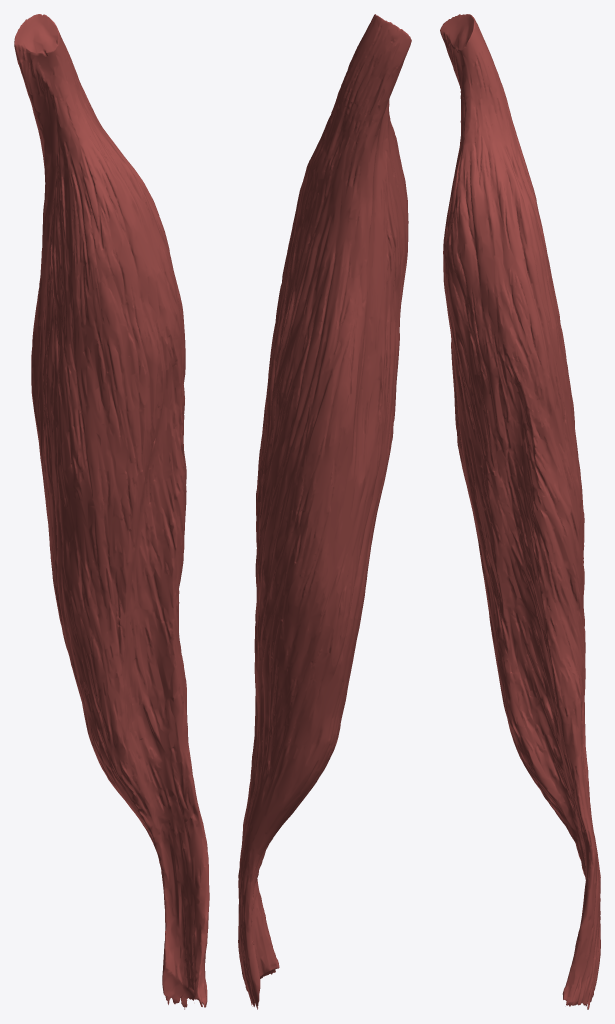
File: FMA45889.glb
The picture shows the model from 3 angles, left to right: view 1: azimuth 30°, elevation 25°; view 2: azimuth 150°, elevation 25°; view 3: azimuth 330°, elevation 25°; orthographic projection. The views are drawn at different scales.
Parts seen in each view (by area): view 1: FMA45889; view 2: FMA45889; view 3: FMA45889.
Part boxes in pixels (x1,y1,x2,y2): FMA45889: (14, 14, 209, 1009); FMA45889: (238, 14, 411, 1009); FMA45889: (440, 14, 600, 1009).
Bounding box in the file's own units: 0.0757 × 0.4123 × 0.054.
